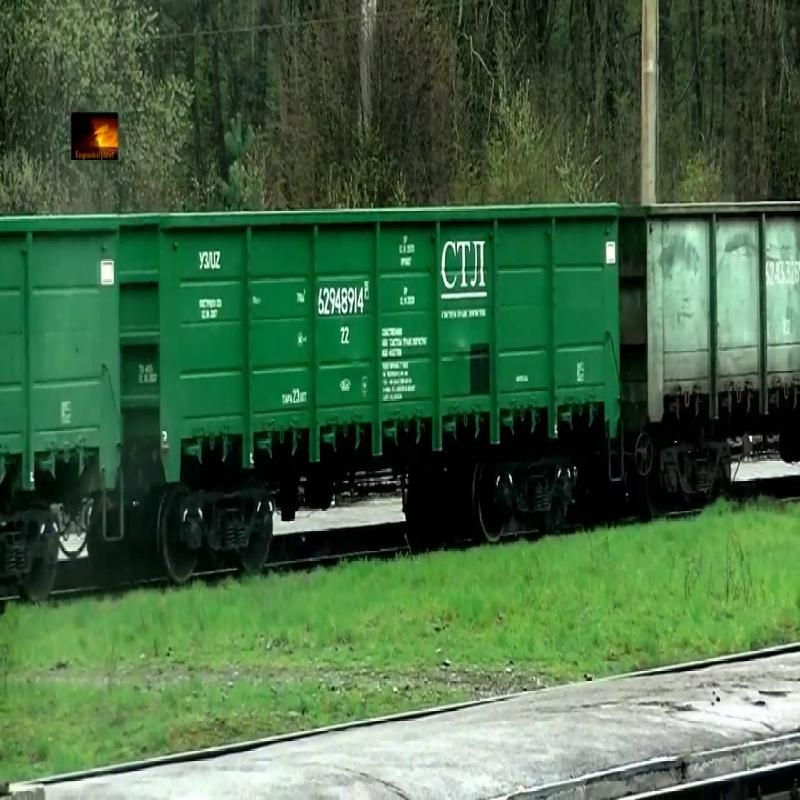train: (120, 208, 622, 487), (622, 199, 799, 437), (1, 214, 120, 510)
